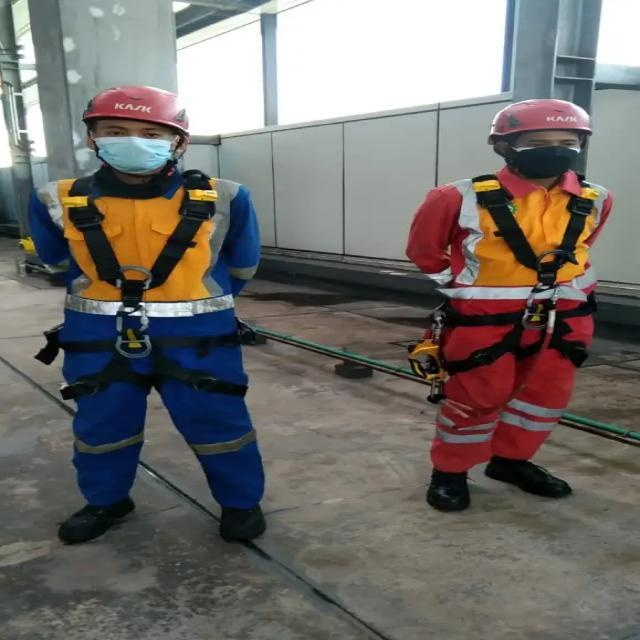Arnes_seguridad: (44, 172, 249, 397), (431, 173, 603, 373)
